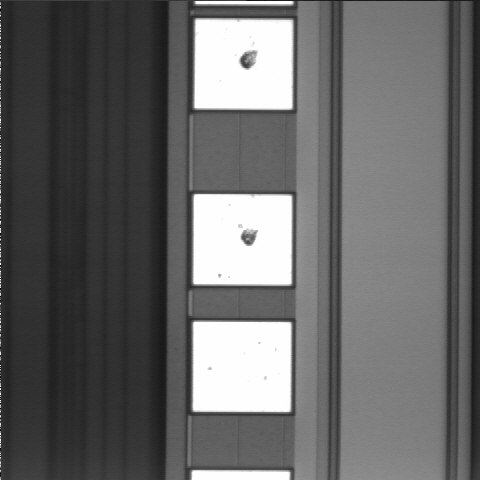pad: (194, 19, 293, 110), (193, 194, 292, 285), (193, 322, 291, 412)
